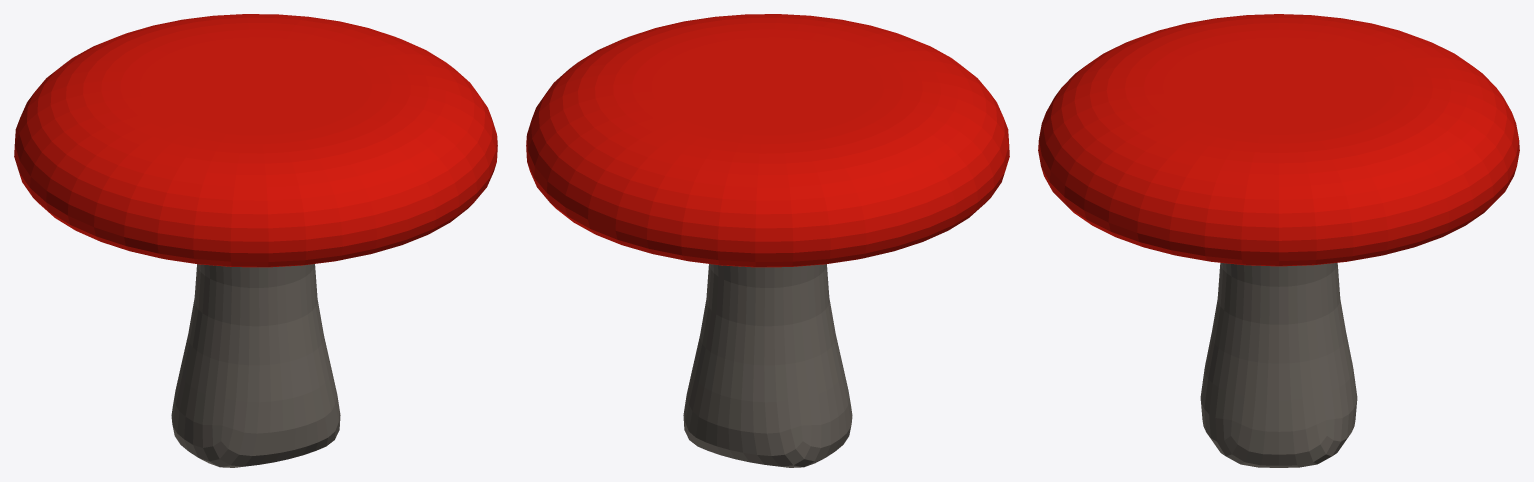
The model's file is Pilz 1.fbx.
3 views of the same model, side by side, from view 1: azimuth 30°, elevation 25°; view 2: azimuth 150°, elevation 25°; view 3: azimuth 270°, elevation 25° (orthographic).
Visible parts, largest first — view 1: Sphere; view 2: Sphere; view 3: Sphere.
Boxes of the visible parts, x1,y1,x2,y2 form: Sphere: (14, 14, 497, 467); Sphere: (526, 14, 1009, 467); Sphere: (1038, 14, 1519, 467).
Bounding box in the file's own units: 183 × 149 × 182.
